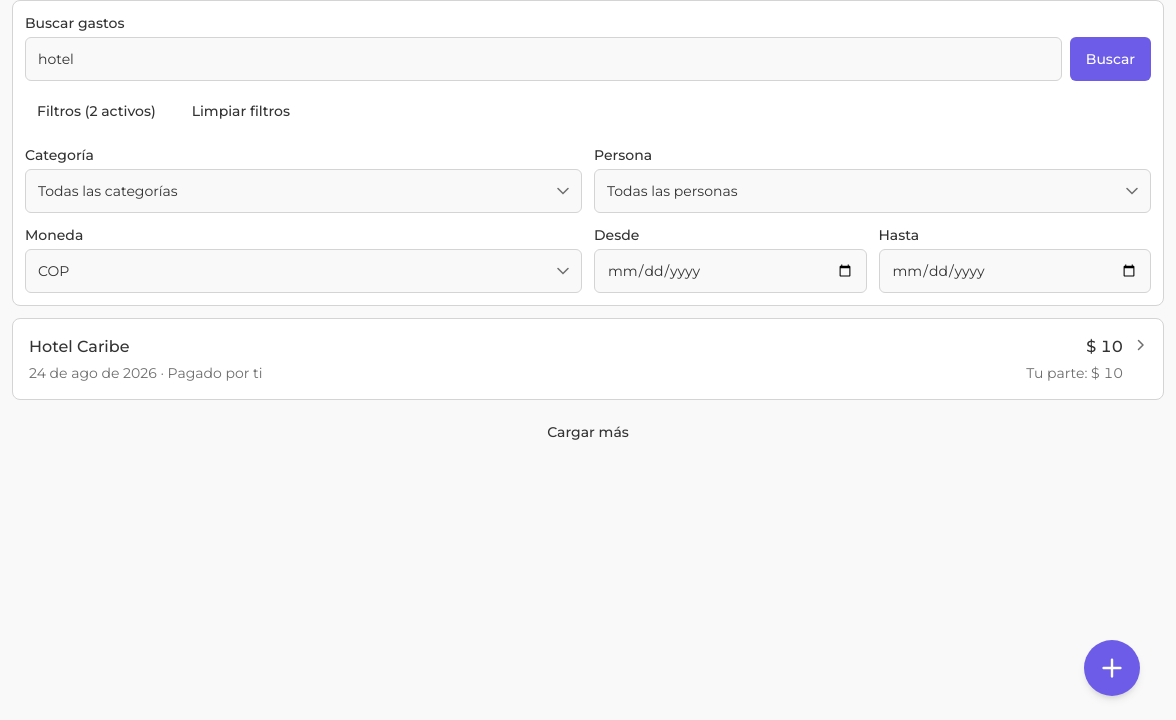
Test: ExpenseFeed under an active filter (T115) › carries every active filter into the next page request
Click the button "Cargar más". click: (588, 432)
box: [12,412,1164,452]
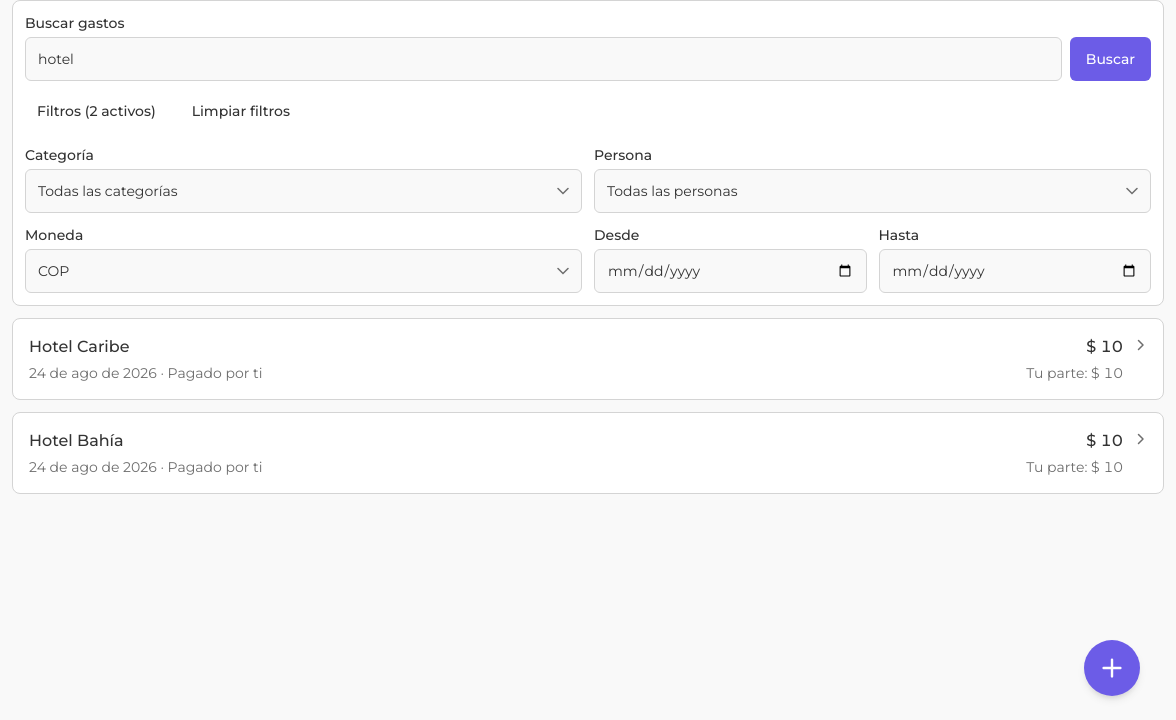
Expected: the text "Hotel Caribe" is shown, [29,335,130,359]
Result: the text "Hotel Bahía" is shown at [29,429,124,453]
